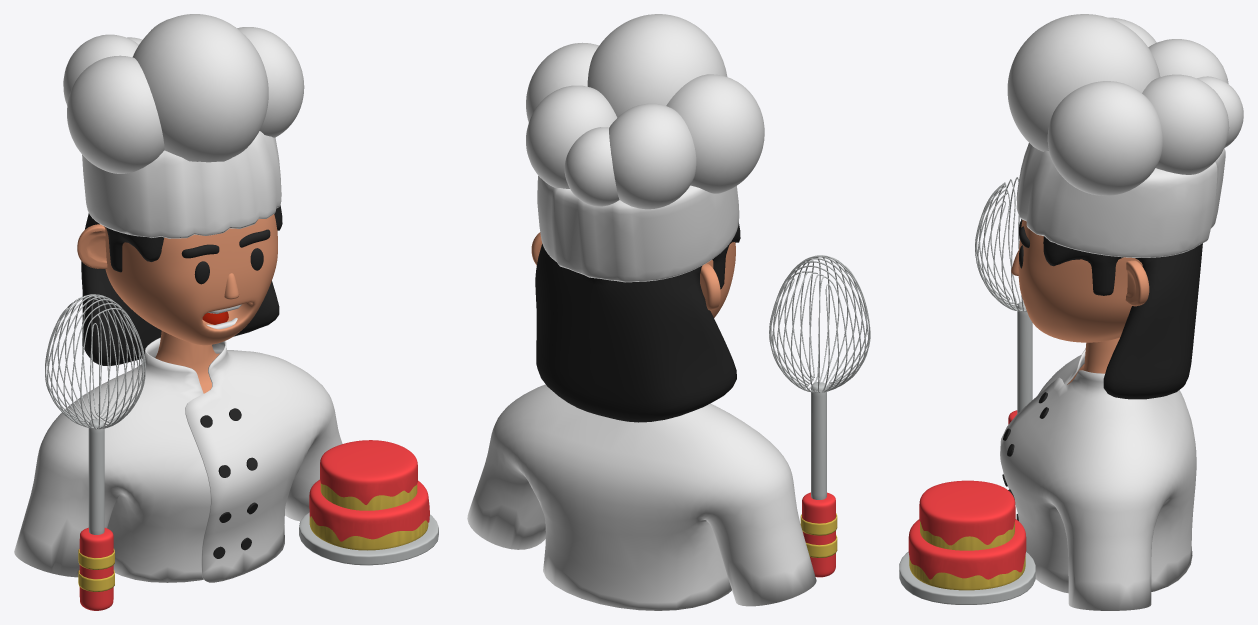
File: female-chef-3d-animated-icon-1493344728880.glb
3 views of the same model, side by side, from view 1: azimuth 30°, elevation 25°; view 2: azimuth 150°, elevation 25°; view 3: azimuth 270°, elevation 25° (orthographic).
Visible parts, largest first — view 1: Body.001, Cube, Cube.005, Cube.002, Cube.011, Cube.010, Cube.013, Cube.008, Cube.001, Body, Cube.004, Cube.009 (+3 smaller); view 2: Body.001, Cube, Cube.011, Cube.002, Cube.001, Cube.005, Cube.007; view 3: Cube, Body.001, Cube.011, Cube.005, Cube.010, Cube.002, Cube.013, Cube.008, Cube.004, Cube.009, Body.
Boxes of the visible parts, left/top/right/bottom form: Body.001: left=14, top=337, right=342, bottom=582; Cube: left=63, top=14, right=304, bottom=238; Cube.005: left=77, top=214, right=277, bottom=345; Cube.002: left=45, top=294, right=145, bottom=534; Cube.011: left=81, top=205, right=282, bottom=365; Cube.010: left=320, top=440, right=417, bottom=504; Cube.013: left=309, top=479, right=429, bottom=541; Cube.008: left=299, top=512, right=438, bottom=565; Cube.001: left=79, top=527, right=113, bottom=610; Body: left=155, top=331, right=219, bottom=393; Cube.004: left=309, top=516, right=428, bottom=550; Cube.009: left=320, top=483, right=417, bottom=510; Body.001: left=467, top=384, right=816, bottom=610; Cube: left=526, top=14, right=764, bottom=282; Cube.011: left=535, top=223, right=740, bottom=422; Cube.002: left=769, top=255, right=870, bottom=499; Cube.001: left=802, top=492, right=835, bottom=577; Cube.005: left=531, top=232, right=735, bottom=317; Cube.007: left=800, top=513, right=837, bottom=557; Cube: left=1007, top=14, right=1243, bottom=257; Body.001: left=1000, top=348, right=1196, bottom=610; Cube.011: left=1043, top=236, right=1202, bottom=399; Cube.005: left=1011, top=220, right=1149, bottom=342; Cube.010: left=919, top=480, right=1015, bottom=545; Cube.002: left=975, top=177, right=1032, bottom=413; Cube.013: left=908, top=519, right=1026, bottom=579; Cube.008: left=899, top=551, right=1035, bottom=604; Cube.004: left=909, top=555, right=1025, bottom=590; Cube.009: left=920, top=521, right=1014, bottom=550; Body: left=1067, top=337, right=1119, bottom=384.
Bounding box in the file's own units: 2.81 × 4.15 × 2.42.
